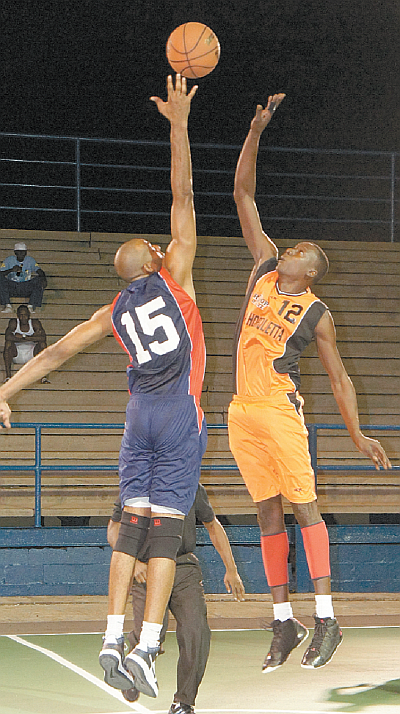ball: (163, 21, 223, 79)
player: (36, 81, 200, 694), (232, 93, 363, 671)
